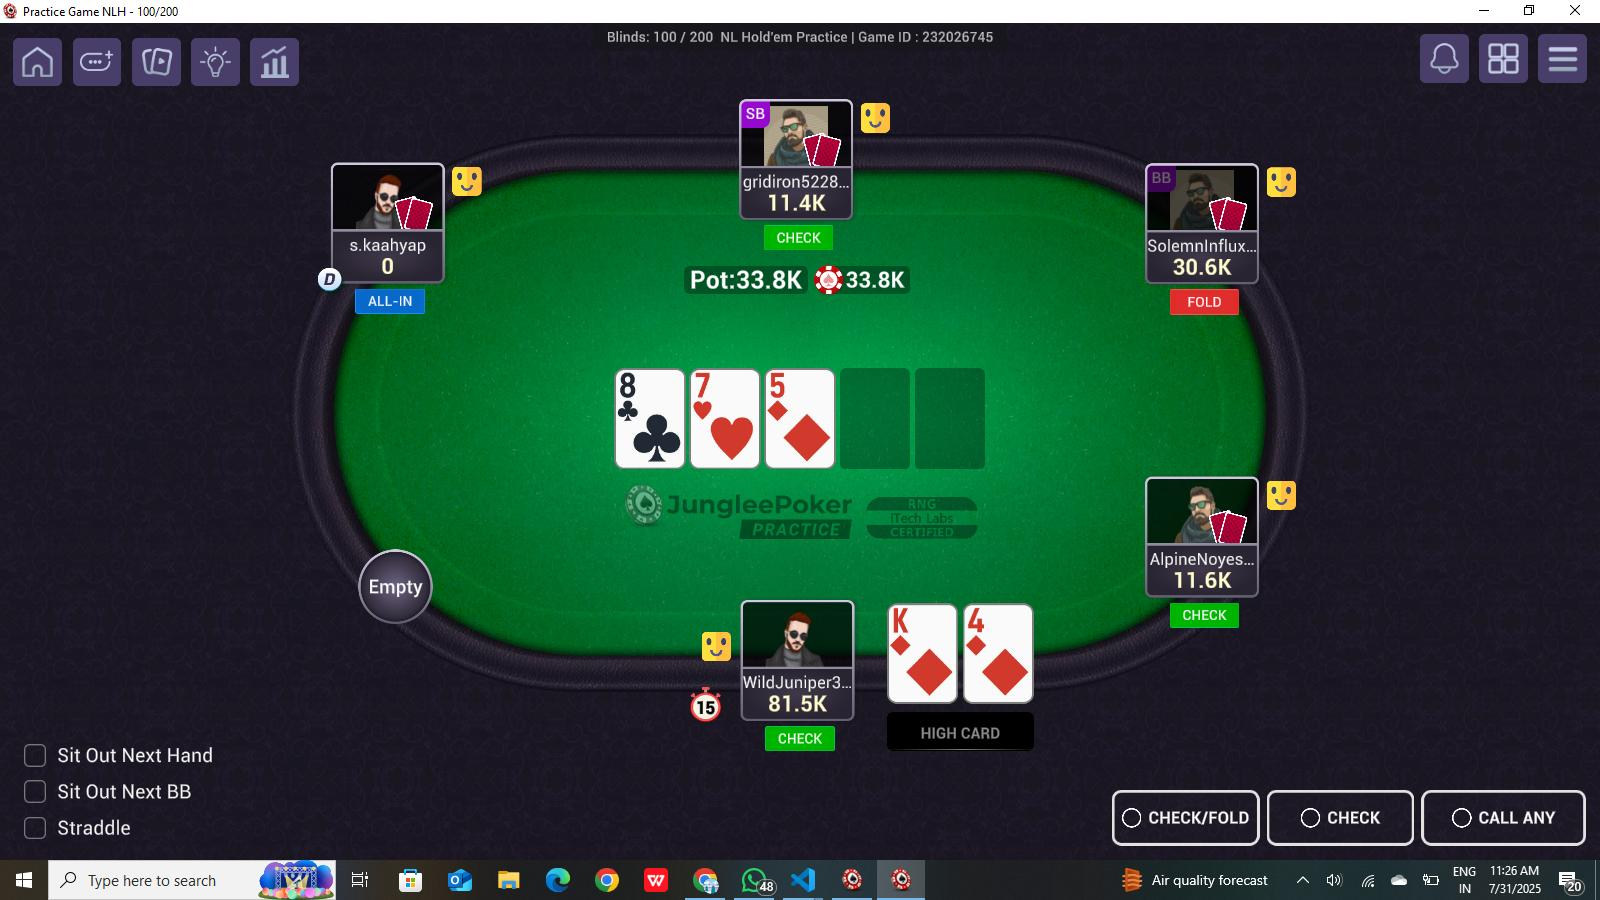card1_rank: (888, 604, 945, 638)
card1_suite_diamond: (904, 638, 956, 705)
card2_rank: (964, 604, 1024, 640)
card2_suite_diamond: (974, 635, 1031, 700)
flop1_rank: (618, 368, 682, 405)
flop1_suite_club: (627, 409, 686, 470)
flop2_rank: (692, 368, 751, 408)
flop2_suite_heart: (704, 409, 760, 469)
flop3_rank: (770, 368, 824, 405)
flop3_suite_diamond: (780, 401, 832, 464)
game_id: (848, 21, 1008, 55)
my_stack: (744, 692, 854, 721)
position_BB: (1146, 157, 1177, 200)
position_SB: (744, 101, 776, 135)
total_pot: (686, 260, 913, 296)
villian2_name: (327, 227, 445, 257)
villian2_stack: (332, 253, 449, 285)
villian3_name: (742, 168, 849, 197)
villian3_stack: (736, 191, 851, 221)
villian4_name: (1146, 233, 1255, 259)
villian4_stack: (1146, 260, 1256, 284)
villian5_name: (1140, 546, 1264, 573)
villian5_stack: (1148, 575, 1264, 600)
